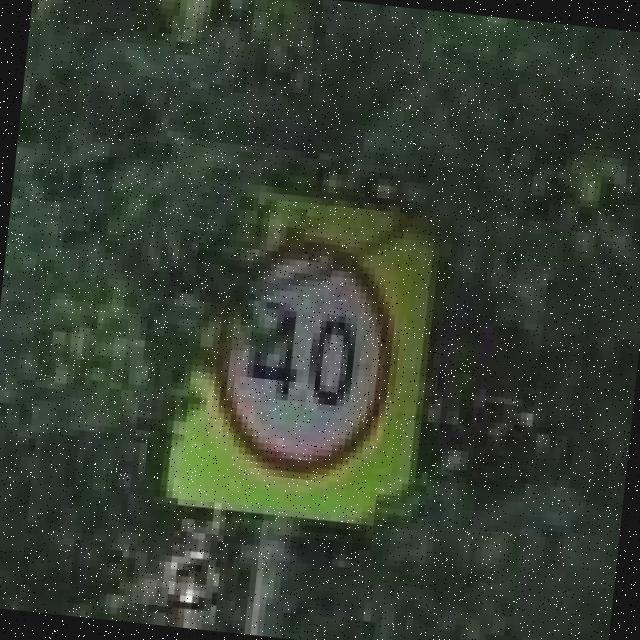Ograniczenie predkosci do 40: (199, 227, 408, 488)
